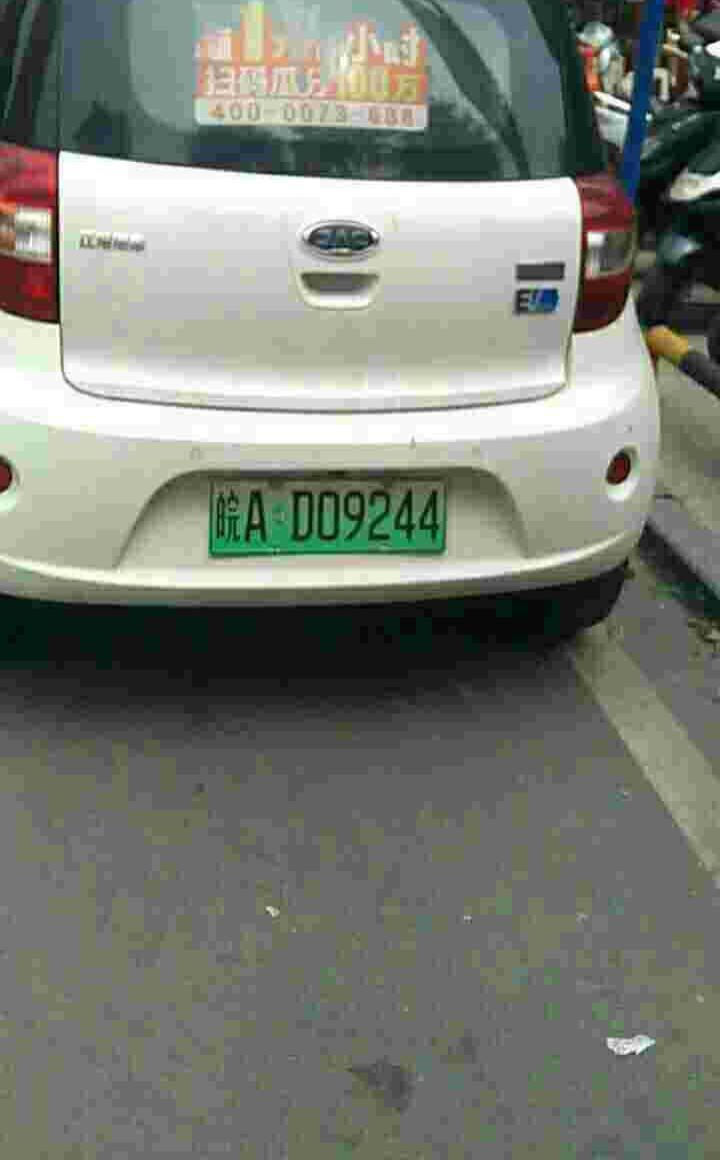car: (215, 485, 446, 557)
